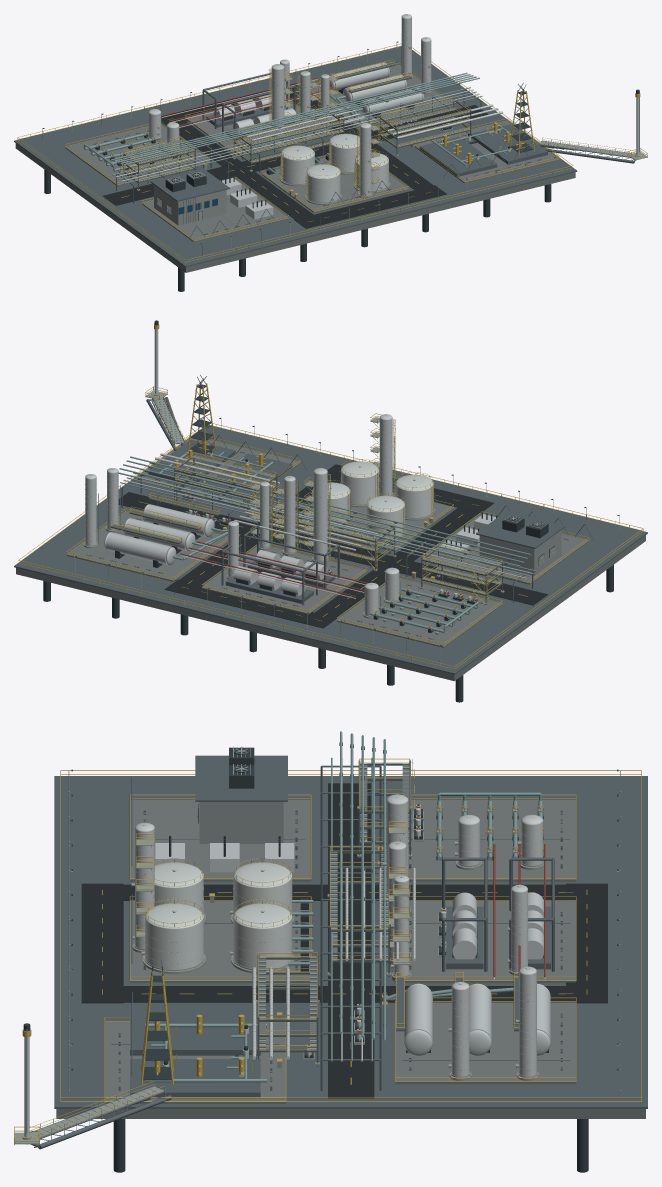
Rendered from campus.glb.
3 views of the same model, one above another, from view 1: azimuth 30°, elevation 25°; view 2: azimuth 150°, elevation 25°; view 3: azimuth 270°, elevation 25° (orthographic). The views are drawn at different scales.
Visible parts, largest first — view 1: edge / -1,-1,-1, pipe / 0,0,-1, deck / -1,-1,-1, deck / -3,0,-2, deck / -3,0,1, asphalt / -2,0,-1, asphalt / -1,0,-1, asphalt / 0,0,2, deck / 0,0,1, edge / 2,0,1, building / -3,0,1, edge / 3,0,1 (+45 smaller); view 2: edge / -1,-1,-1, deck / -1,-1,-1, deck / -3,0,-2, pipe / 0,0,-1, asphalt / -1,0,-1, deck / 2,0,-2, asphalt / -2,0,-1, deck / 0,0,-2, insulation / 0,0,-1, steel / 2,0,-2, asphalt / 0,0,-3, building / -3,0,1 (+41 smaller); view 3: edge / -1,-1,-1, deck / -3,0,-2, asphalt / -1,0,-1, deck / 2,0,-2, deck / 0,0,-2, deck / -3,0,1, deck / -1,-1,-1, asphalt / 0,0,2, deck / 0,0,1, asphalt / 1,0,-1, deck / 2,0,1, pipe / 0,0,-1 (+50 smaller).
Boxes of the visible parts, x1,y1,x2,y2 form: edge / -1,-1,-1: (14,46,577,267); pipe / 0,0,-1: (111,72,476,179); deck / -1,-1,-1: (15,143,575,272); deck / -3,0,-2: (65,125,210,186); deck / -3,0,1: (142,180,288,242); asphalt / -2,0,-1: (178,121,313,219); asphalt / -1,0,-1: (103,105,488,205); asphalt / 0,0,2: (294,185,446,228); deck / 0,0,1: (262,158,408,212); edge / 2,0,1: (419,136,497,177); building / -3,0,1: (154,185,226,225); edge / 3,0,1: (471,116,547,164); edge / -1,-1,-1: (14,425,647,674); deck / -1,-1,-1: (16,535,645,681); deck / -3,0,-2: (337,578,502,647); pipe / 0,0,-1: (118,460,529,581); asphalt / -1,0,-1: (118,492,547,605); deck / 2,0,-2: (67,511,227,581); asphalt / -2,0,-1: (315,507,479,617); deck / 0,0,-2: (202,547,367,614); insulation / 0,0,-1: (234,480,377,553); steel / 2,0,-2: (104,518,191,564); asphalt / 0,0,-3: (164,579,336,628); building / -3,0,1: (479,530,561,575); edge / -1,-1,-1: (54,776,647,1108); deck / -3,0,-2: (408,799,576,881); asphalt / -1,0,-1: (328,783,374,1098); deck / 2,0,-2: (395,1002,576,1084); deck / 0,0,-2: (395,901,576,982); deck / -3,0,1: (130,799,311,881); deck / -1,-1,-1: (56,1109,645,1118); asphalt / 0,0,2: (81,883,123,1003); deck / 0,0,1: (130,901,310,982); asphalt / 1,0,-1: (123,986,565,1002); deck / 2,0,1: (105,1022,285,1103); pipe / 0,0,-1: (350,733,385,1061).
Bounding box in the file's own units: 214 × 55.93 × 151.
